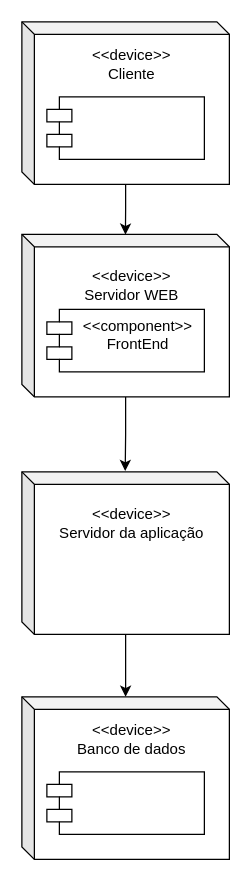
Image size: 251x881. Some labels were removed from this diagram. Each missing label, with the centre of its shape:
"<<component>> Interface WEB" goes at (125,127).
"<<component>> Tabelas" goes at (125,802).
